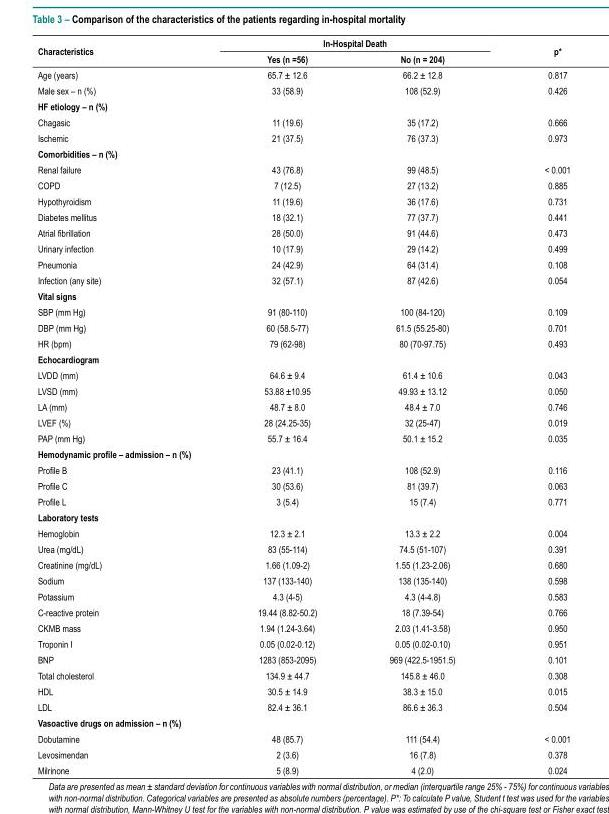table: (36, 37, 569, 775)
table column: (36, 37, 223, 775), (352, 37, 499, 775), (223, 37, 352, 775), (499, 37, 569, 775)
table column header: (36, 37, 569, 66)
table projected row header: (36, 145, 569, 161), (36, 287, 569, 303), (36, 350, 569, 366), (36, 445, 569, 461), (36, 714, 569, 730), (36, 98, 569, 113), (36, 509, 569, 524)
table row: (36, 50, 569, 66), (36, 66, 569, 82), (36, 82, 569, 98), (36, 113, 569, 129), (36, 129, 569, 145), (36, 145, 569, 161), (36, 161, 569, 177), (36, 192, 569, 208), (36, 208, 569, 224), (36, 224, 569, 240), (36, 240, 569, 256), (36, 271, 569, 287), (36, 287, 569, 303), (36, 303, 569, 319), (36, 319, 569, 335), (36, 350, 569, 366), (36, 366, 569, 382), (36, 382, 569, 398), (36, 398, 569, 414), (36, 429, 569, 445), (36, 445, 569, 461), (36, 461, 569, 477), (36, 477, 569, 493), (36, 493, 569, 509), (36, 524, 569, 540), (36, 540, 569, 556), (36, 556, 569, 572), (36, 572, 569, 588), (36, 603, 569, 619), (36, 619, 569, 635), (36, 635, 569, 651), (36, 651, 569, 667), (36, 682, 569, 698), (36, 698, 569, 714), (36, 714, 569, 730), (36, 730, 569, 746), (36, 98, 569, 113), (36, 177, 569, 192), (36, 256, 569, 271), (36, 335, 569, 350), (36, 414, 569, 429), (36, 509, 569, 524), (36, 588, 569, 603), (36, 667, 569, 682), (36, 746, 569, 761), (36, 761, 569, 775), (36, 37, 569, 50)
table spanning cell: (36, 37, 223, 66), (223, 37, 499, 50), (499, 37, 569, 66)
